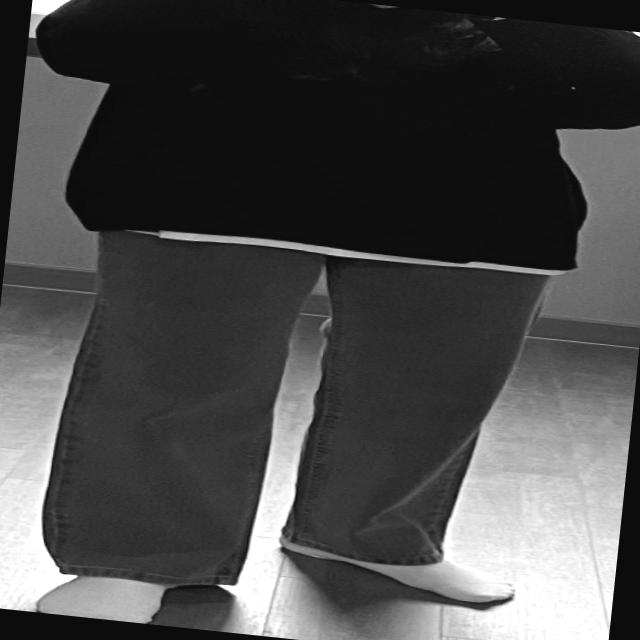denimpants: (35, 208, 548, 620)
zipup: (16, 0, 640, 288)
